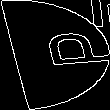P_W: (7, 33, 103, 77)
